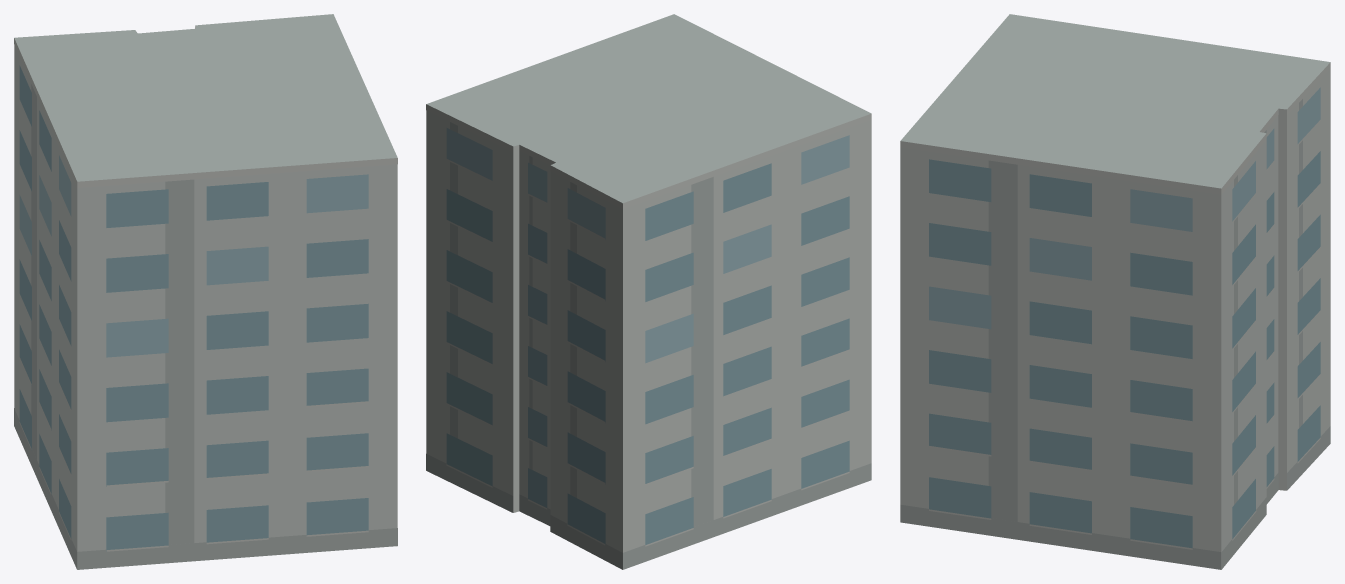
The model's file is survey-upis-32851841.glb.
The picture shows the model from 3 angles, left to right: view 1: azimuth 30°, elevation 25°; view 2: azimuth 150°, elevation 25°; view 3: azimuth 270°, elevation 25°; orthographic projection. The views are drawn at different scales.
Visible parts, largest first — view 1: survey-upis-32851841.tmp; view 2: survey-upis-32851841.tmp; view 3: survey-upis-32851841.tmp.
Part boxes in pixels (box(x1,y1,x2,y2)): survey-upis-32851841.tmp: box(14, 14, 397, 569); survey-upis-32851841.tmp: box(426, 14, 871, 569); survey-upis-32851841.tmp: box(900, 14, 1330, 569).
Size of the model in its own units: 14.29 by 14.55 by 14.89.
